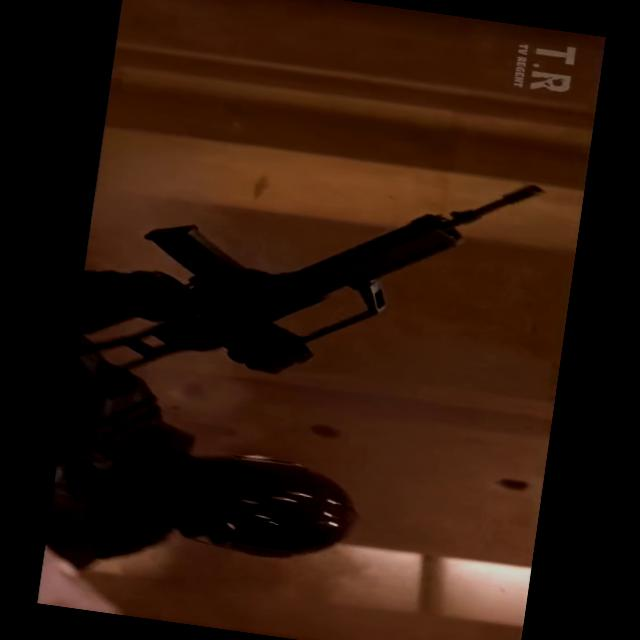long weapon: (60, 123, 567, 455)
